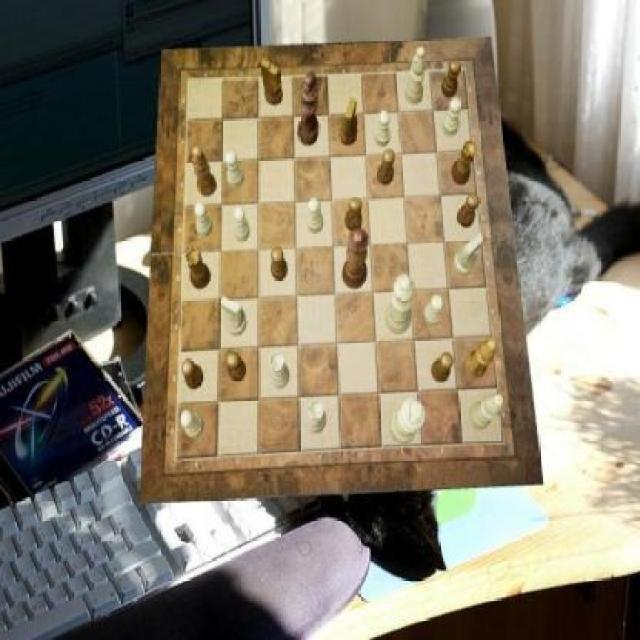bishop: (466, 338, 499, 378), (192, 146, 217, 197)
black-bishop: (298, 71, 321, 145)
black-king: (261, 59, 284, 106), (339, 99, 356, 146)
black-knight: (457, 192, 480, 227), (442, 60, 462, 98), (181, 360, 204, 391), (432, 352, 455, 383), (377, 150, 395, 186), (270, 246, 288, 281), (226, 352, 246, 382), (345, 198, 362, 232)
black-pawn: (342, 229, 368, 289)
black-queen: (451, 138, 477, 184), (186, 249, 211, 289)
black-rook: (404, 46, 426, 104), (470, 394, 504, 430)
white-bishop: (391, 398, 426, 444)
white-king: (452, 234, 482, 276), (222, 297, 248, 337)
white-knight: (224, 151, 243, 188), (443, 97, 461, 135), (180, 411, 205, 438), (195, 202, 213, 238), (424, 294, 444, 326), (375, 109, 391, 147), (234, 206, 250, 242), (308, 199, 324, 233)
white-pawn: (386, 274, 416, 334)
white-queen: (271, 351, 291, 389), (306, 399, 327, 433)
